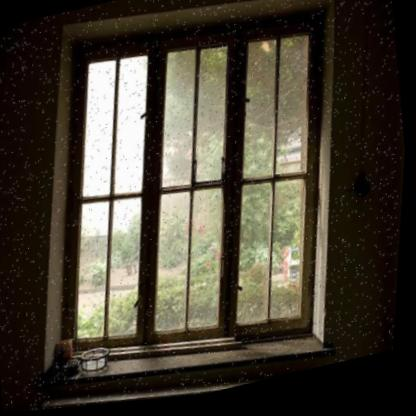Window: (15, 0, 376, 398)
